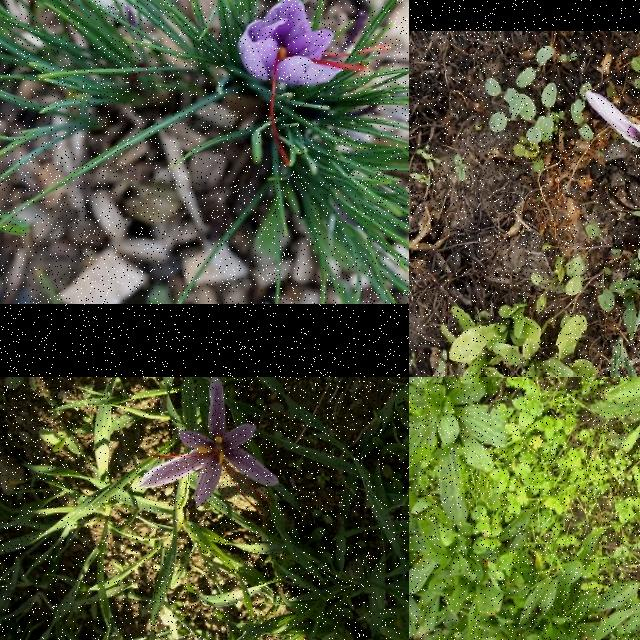flower: (238, 0, 392, 165), (138, 378, 280, 518), (584, 89, 640, 144)
